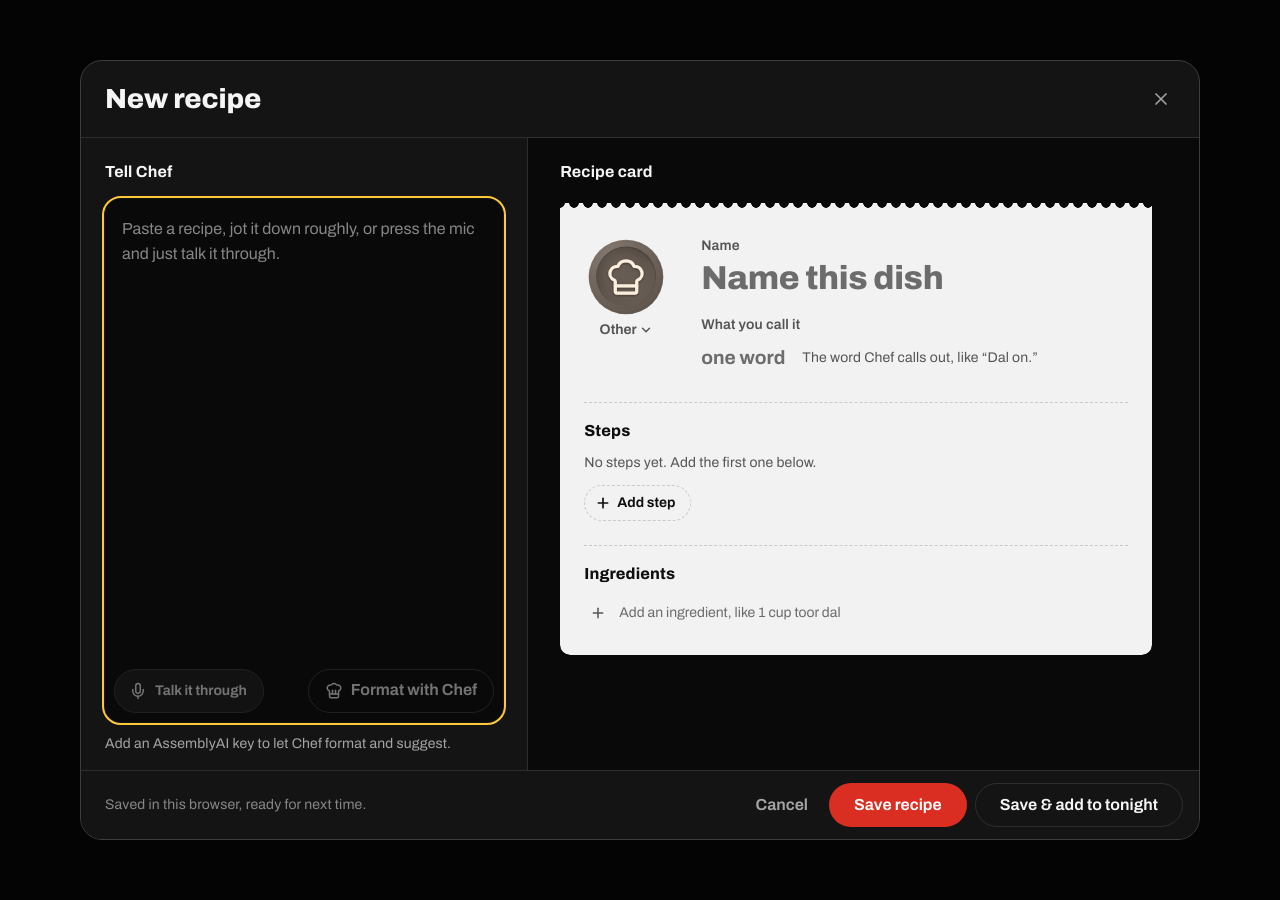
Test: RecipeStudio › handles Esc itself, so pressing it again and again never throws the recipe away
Type "Some notes" into the text box with test id "studio-text" at (304, 430), box left=106, top=200, right=502, bottom=661
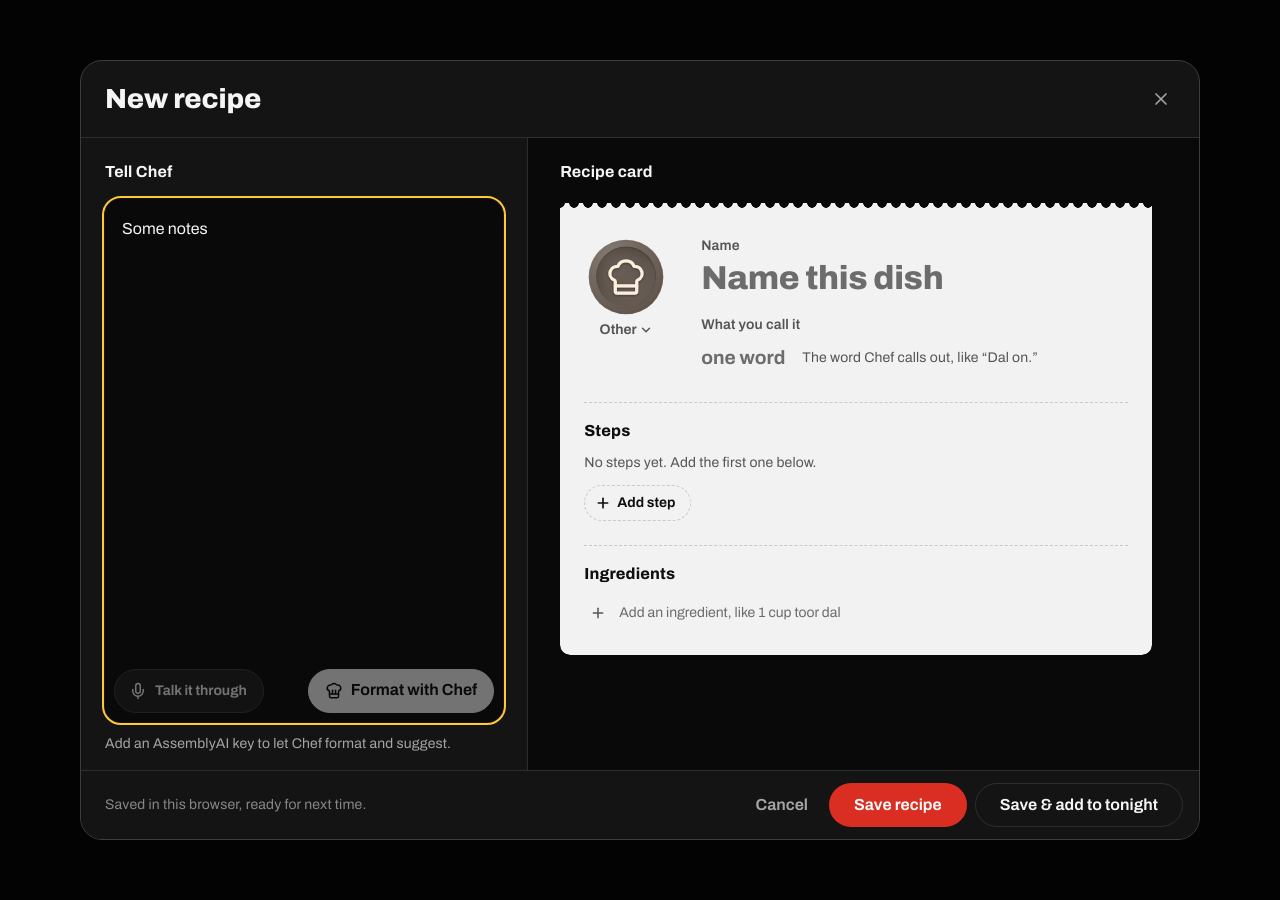
Press Escape
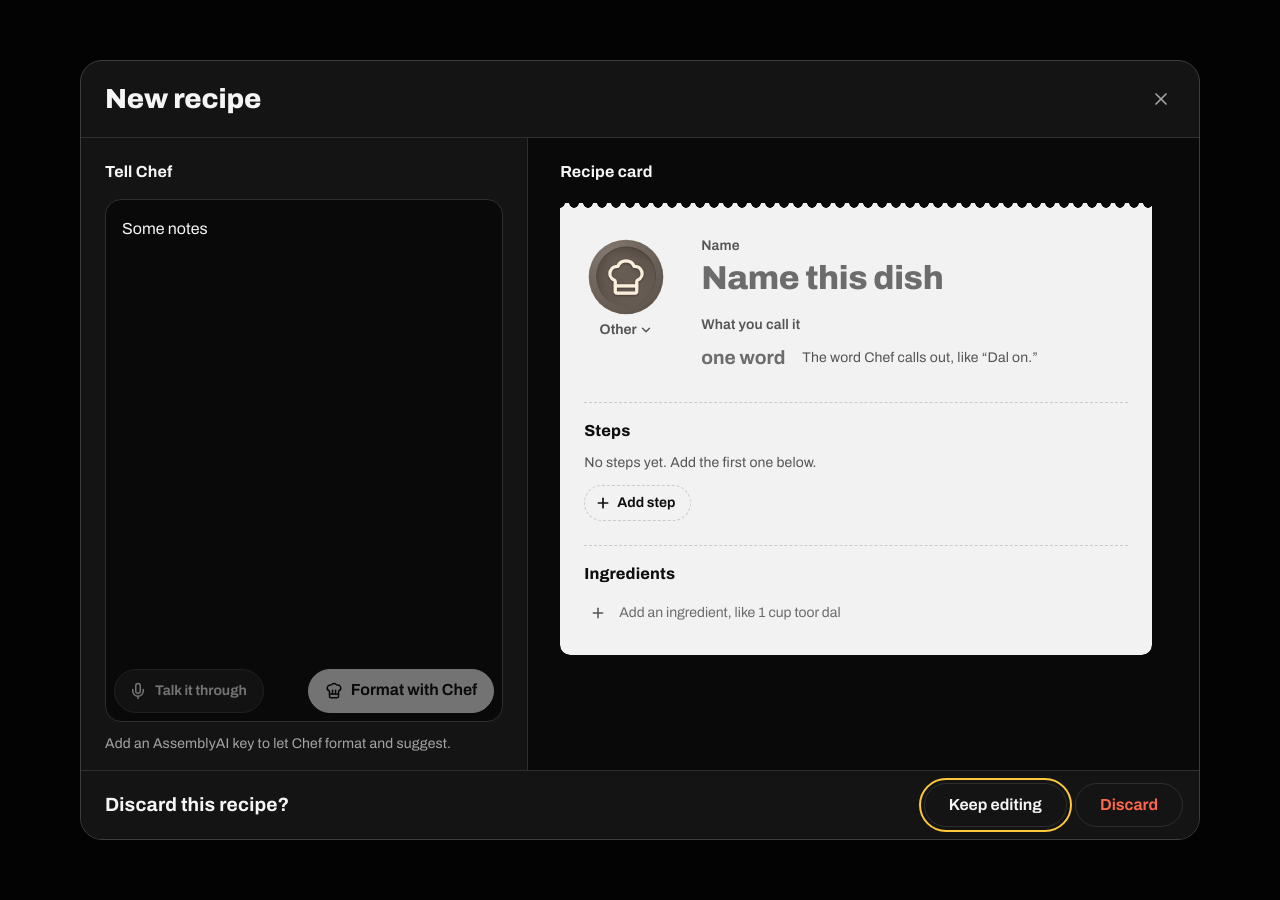
Expected: the text "Discard this recipe?" is shown, left=105, top=791, right=290, bottom=819
Press Escape
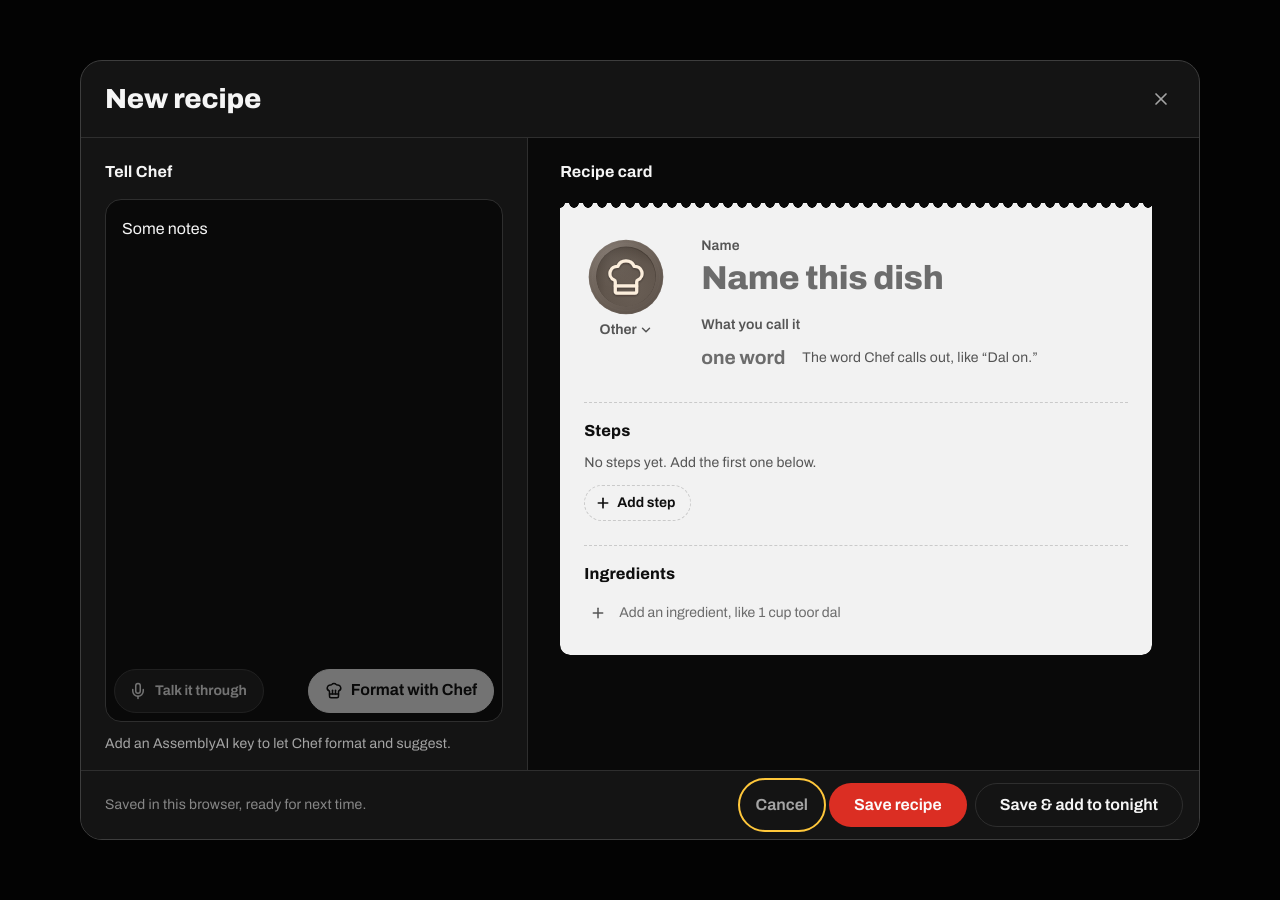
Expected: the text "Discard this recipe?" is gone
Press Escape in the text box with test id "studio-text", box left=106, top=200, right=502, bottom=661
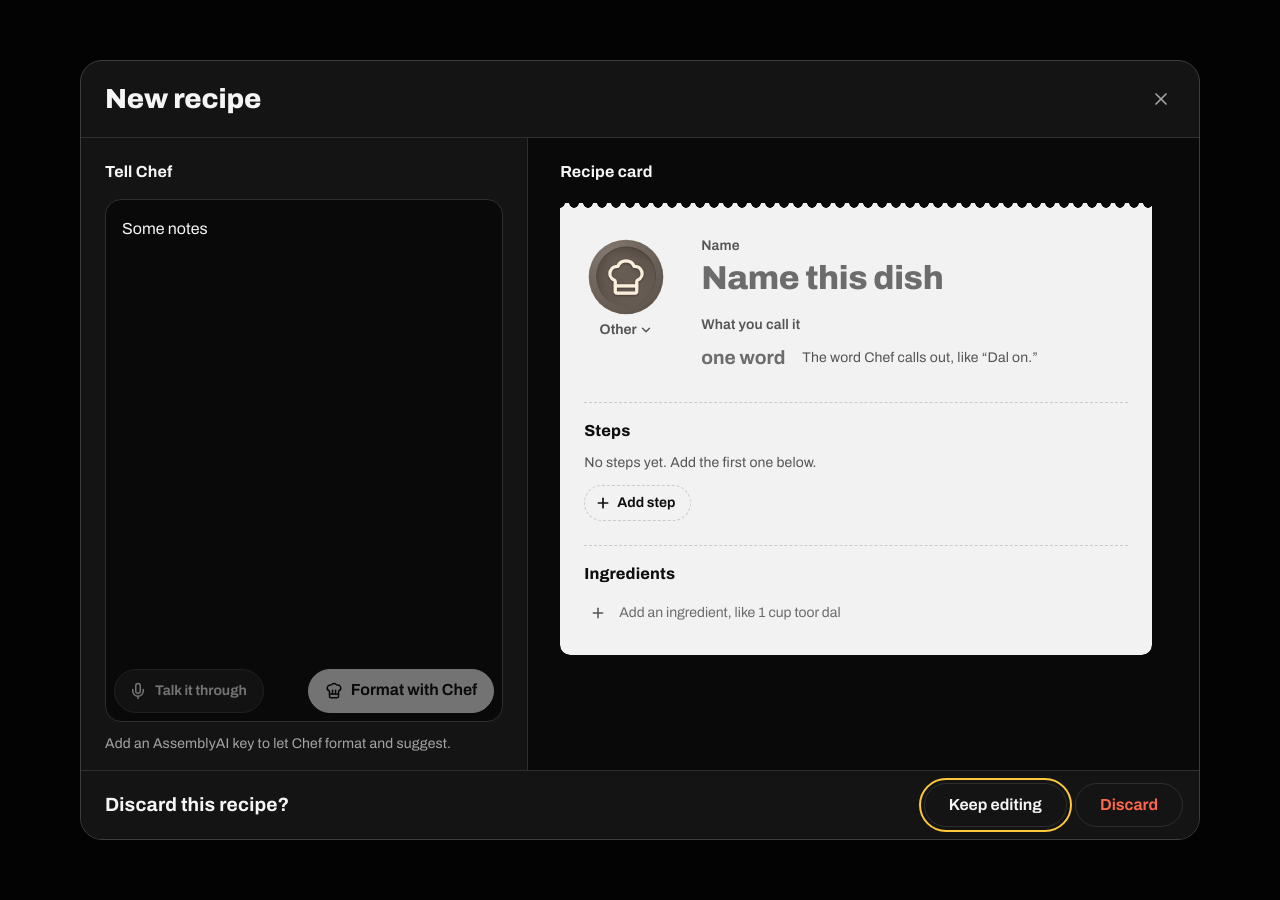
Expected: the text "Discard this recipe?" is shown, left=105, top=791, right=290, bottom=819
